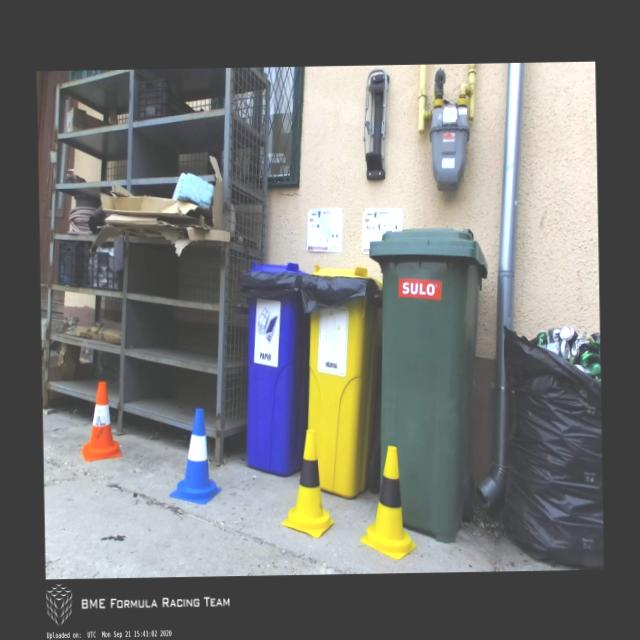blue_cone: (168, 407, 222, 504)
orange_cone: (80, 382, 120, 461)
yellow_cone: (358, 446, 416, 560), (280, 429, 334, 538)
